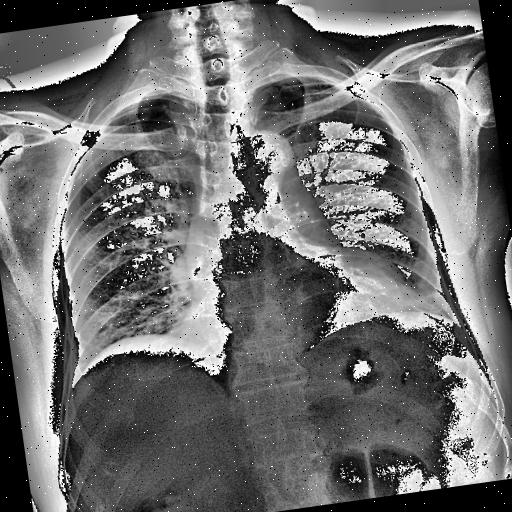0- Aortic enlargement: (232, 126, 306, 202), (232, 130, 300, 204), (240, 127, 294, 179)
13- Pulmonary fibrosis: (412, 288, 444, 306)
3- Cardiomegaly: (166, 254, 423, 352), (170, 254, 406, 340), (175, 269, 415, 343)
